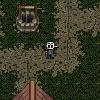Hide: (2, 0, 51, 42)
Jason: (40, 39, 59, 60)
